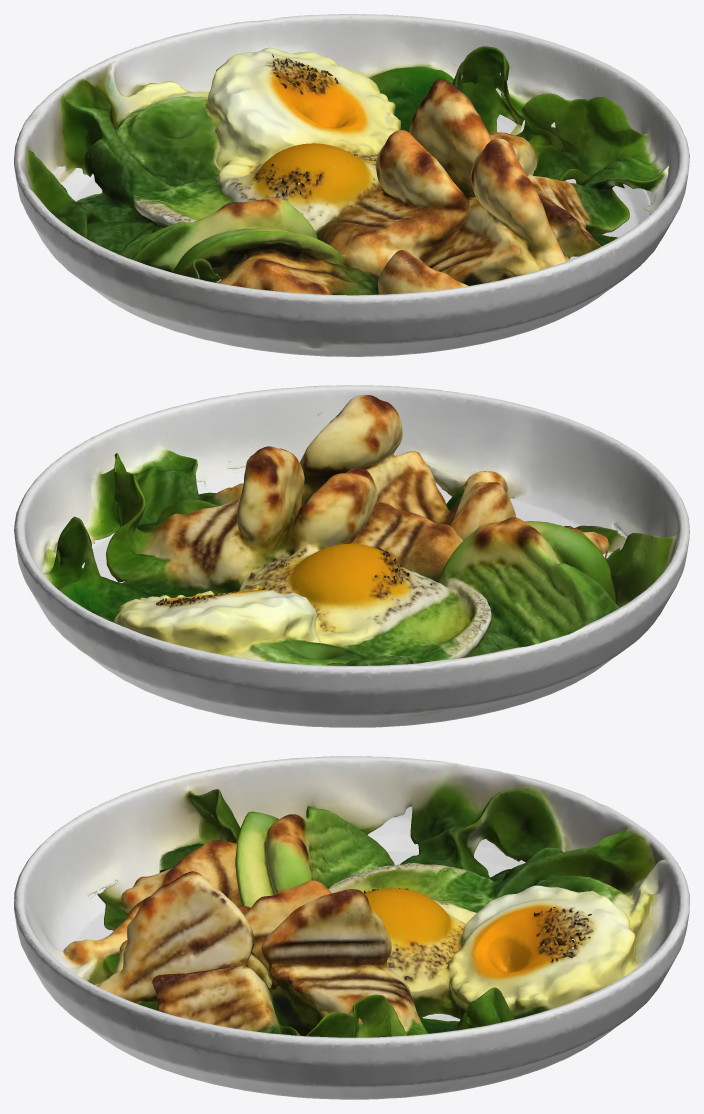
Rendered from sample_2026-11-06T233822.236.glb.
The picture shows the model from 3 angles, top to bottom: view 1: azimuth 30°, elevation 25°; view 2: azimuth 150°, elevation 25°; view 3: azimuth 270°, elevation 25°; orthographic projection.
Parts seen in each view (by area): view 1: world; view 2: world; view 3: world.
Boxes of the visible parts, box(x1,y1,x2,y2) form: world: box(14, 14, 689, 356); world: box(14, 385, 689, 727); world: box(14, 756, 689, 1099).
Size of the model in its own units: 1 by 0.264 by 1.
Materials: 1 (1 with a texture image).
